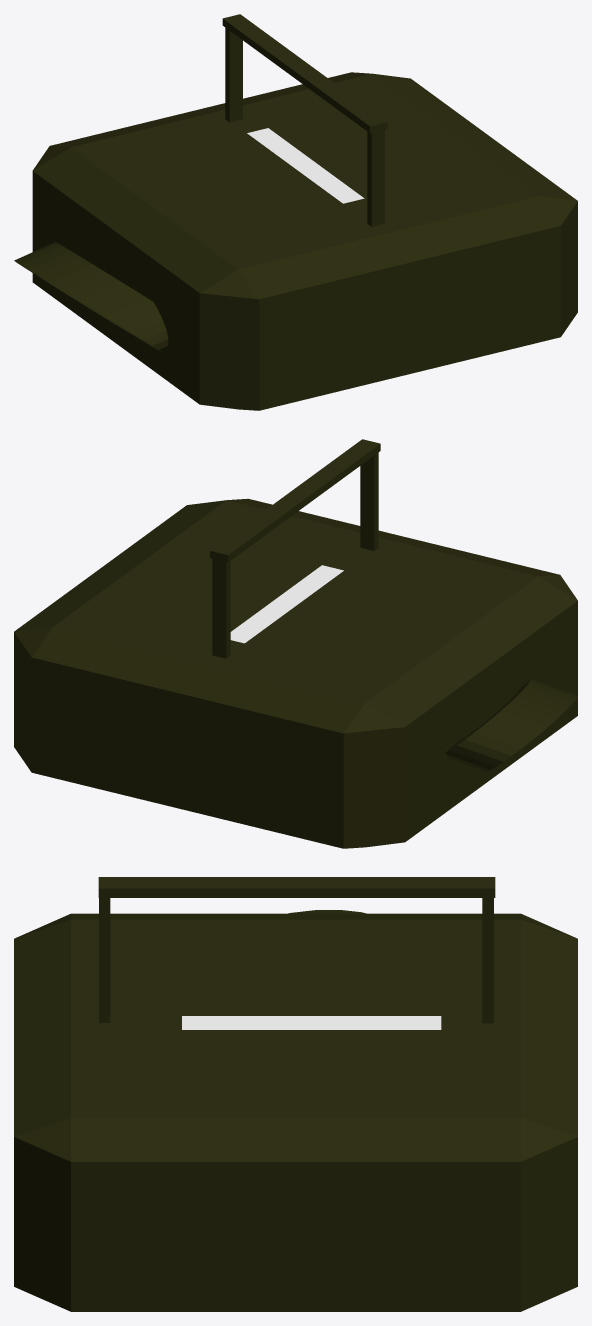
The model's file is HausT-Projektor.glb.
The picture shows the model from 3 angles, top to bottom: view 1: azimuth 30°, elevation 25°; view 2: azimuth 150°, elevation 25°; view 3: azimuth 270°, elevation 25°; orthographic projection. The views are drawn at different scales.
Visible parts, largest first — view 1: Cube, Circle, Cube.003, Cube.002, Cube.001; view 2: Cube, Circle, Cube.003, Cube.001, Cube.002; view 3: Cube, Cube.003, Cube.001, Cube.002.
Part boxes in pixels (box(x1,y1,x2,y2)): Cube: box(32, 72, 577, 410); Circle: box(14, 242, 168, 352); Cube.003: box(222, 14, 387, 133); Cube.002: box(367, 130, 384, 226); Cube.001: box(225, 28, 242, 122); Cube: box(14, 498, 577, 848); Circle: box(445, 679, 577, 772); Cube.003: box(210, 439, 380, 562); Cube.001: box(212, 558, 230, 658); Cube.002: box(360, 452, 378, 550); Cube: box(14, 913, 577, 1311); Cube.003: box(98, 877, 495, 897); Cube.001: box(482, 898, 493, 1023); Cube.002: box(99, 898, 110, 1022).
Bounding box in the file's own units: 1.37 × 0.6996 × 1.1.
